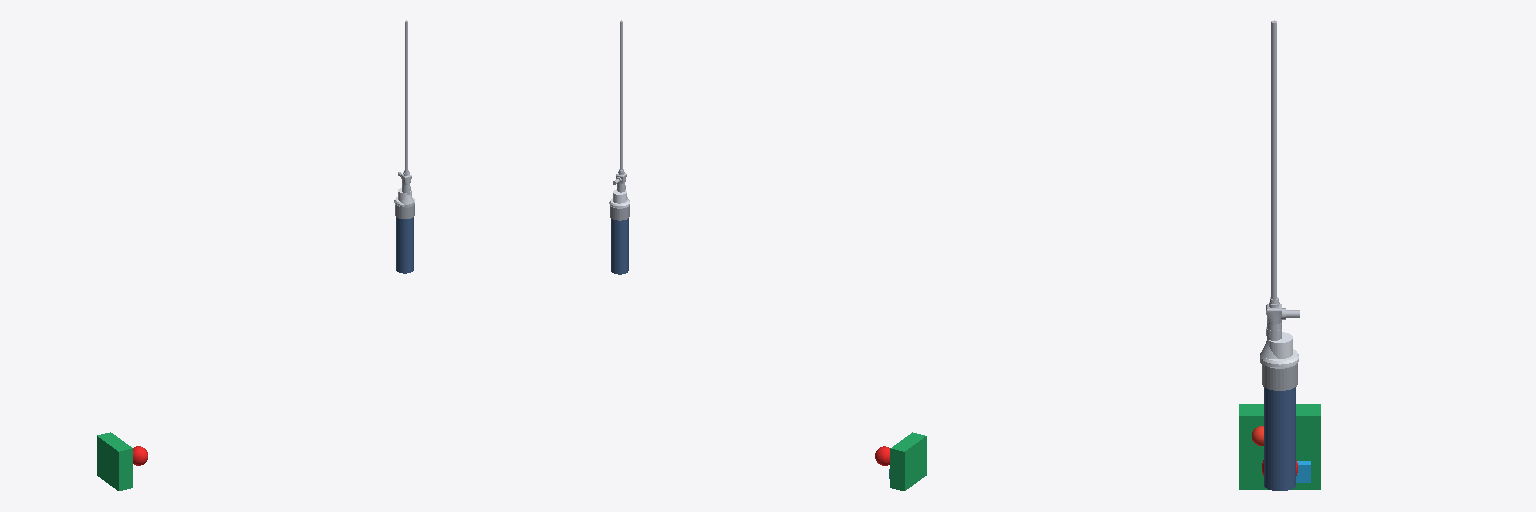
The robot description file, URDF, robot "RM65-B":
<?xml version="1.0" encoding="utf-8"?>
<!-- This URDF was automatically created by SolidWorks to URDF Exporter! Originally created by Stephen Brawner (brawner@gmail.com) 
     Commit Version: 1.6.0-1-g15f4949  Build Version: 1.6.7594.29634
     For more information, please see http://wiki.ros.org/sw_urdf_exporter -->
<robot
  name="RM65-B">
  <link
    name="base_link">
    <inertial>
      <origin
        xyz="-0.00049987 -5.2709E-05 0.060019"
        rpy="0 0 0" />
      <mass
        value="1.862" />
      <inertia
        ixx="0.0017232"
        ixy="-3.1058E-06"
        ixz="3.7924E-05"
        iyy="0.0017051"
        iyz="-1.3691E-06"
        izz="0.00090158" />
    </inertial>
    <visual>
      <origin
        xyz="0 0 0"
        rpy="0 0 0" />
      <geometry>
        <mesh
          filename="package://RM65-B/meshes/base_link.STL" />
      </geometry>
      <material
        name="arm_base">
        <color
          rgba="0.3 0.42 0.58 1" />
      </material>
    </visual>
    <collision>
      <origin
        xyz="0 0 0"
        rpy="0 0 0" />
      <geometry>
        <mesh
          filename="package://RM65-B/meshes/base_link.STL" />
      </geometry>
    </collision>
  </link>
  <link
    name="link_1">
    <inertial>
      <origin
        xyz="0.000941 0.007803 -0.10744"
        rpy="0 0 0" />
      <mass
        value="1.51" />
      <inertia
        ixx="0.002662223"
        ixy="-0.000026849"
        ixz="-0.000013775"
        iyy="0.002331685"
        iyz="-0.000078667"
        izz="0.001663712" />
    </inertial>
    <visual>
      <origin
        xyz="0 0 0"
        rpy="0 0 0" />
      <geometry>
        <mesh
          filename="package://RM65-B/meshes/link_1.STL" />
      </geometry>
      <material
        name="arm_link_1">
        <color
          rgba="0.42 0.56 0.72 1" />
      </material>
    </visual>
    <collision>
      <origin
        xyz="0 0 0"
        rpy="0 0 0" />
      <geometry>
        <mesh
          filename="package://RM65-B/meshes/link_1.STL" />
      </geometry>
    </collision>
  </link>
  <joint
    name="joint_1"
    type="revolute">
    <origin
      xyz="0 0 0.2405"
      rpy="0 0 0" />
    <parent
      link="base_link" />
    <child
      link="link_1" />
    <axis
      xyz="0 0 1" />
    <limit
      lower="-3.106"
      upper="3.106"
      effort="60"
      velocity="3.14" />
  </joint>
  <link
    name="link_2">
    <inertial>
      <origin
        xyz="0.183722 0.000103 -0.001665"
        rpy="0 0 0" />
      <mass
        value="1.653" />
      <inertia
        ixx="0.001706953"
        ixy="-0.000006995"
        ixz="0.001809254"
        iyy="0.014713776"
        iyz="0.000006223"
        izz="0.014239805" />
    </inertial>
    <visual>
      <origin
        xyz="0 0 0"
        rpy="0 0 0" />
      <geometry>
        <mesh
          filename="package://RM65-B/meshes/link_2.STL" />
      </geometry>
      <material
        name="arm_link_2">
        <color
          rgba="0.38 0.5 0.68 1" />
      </material>
    </visual>
    <collision>
      <origin
        xyz="0 0 0"
        rpy="0 0 0" />
      <geometry>
        <mesh
          filename="package://RM65-B/meshes/link_2.STL" />
      </geometry>
    </collision>
  </link>
  <joint
    name="joint_2"
    type="revolute">
    <origin
      xyz="0 0 0"
      rpy="1.5708 -1.5708 0" />
    <parent
      link="link_1" />
    <child
      link="link_2" />
    <axis
      xyz="0 0 1" />
    <limit
      lower="-2.2689"
      upper="2.2689"
      effort="60"
      velocity="3.14" />
  </joint>
  <link
    name="link_3">
    <inertial>
      <origin
        xyz="0.000029 -0.090105 0.004039"
        rpy="0 0 0" />
      <mass
        value="0.726" />
      <inertia
        ixx="0.001350874"
        ixy="0.000001069"
        ixz="-0.000000228"
        iyy="0.000360021"
        iyz="-0.000219904"
        izz="0.001331598" />
    </inertial>
    <visual>
      <origin
        xyz="0 0 0"
        rpy="0 0 0" />
      <geometry>
        <mesh
          filename="package://RM65-B/meshes/link_3.STL" />
      </geometry>
      <material
        name="arm_link_3">
        <color
          rgba="0.45 0.6 0.78 1" />
      </material>
    </visual>
    <collision>
      <origin
        xyz="0 0 0"
        rpy="0 0 0" />
      <geometry>
        <mesh
          filename="package://RM65-B/meshes/link_3.STL" />
      </geometry>
    </collision>
  </link>
  <joint
    name="joint_3"
    type="revolute">
    <origin
      xyz="0.256 0 0"
      rpy="0 0 1.5708" />
    <parent
      link="link_2" />
    <child
      link="link_3" />
    <axis
      xyz="0 0 1" />
    <limit
      lower="-2.356"
      upper="2.356"
      effort="30"
      velocity="3.14" />
  </joint>
  <link
    name="link_4">
    <inertial>
      <origin
        xyz="0.000007 -0.009486 -0.008041"
        rpy="0 0 0" />
      <mass
        value="0.671" />
      <inertia
        ixx="0.000690221"
        ixy="-0.000000865"
        ixz="-0.000000692"
        iyy="0.000552834"
        iyz="0.000016411"
        izz="0.000425835" />
    </inertial>
    <visual>
      <origin
        xyz="0 0 0"
        rpy="0 0 0" />
      <geometry>
        <mesh
          filename="package://RM65-B/meshes/link_4.STL" />
      </geometry>
      <material
        name="arm_link_4">
        <color
          rgba="0.36 0.48 0.64 1" />
      </material>
    </visual>
    <collision>
      <origin
        xyz="0 0 0"
        rpy="0 0 0" />
      <geometry>
        <mesh
          filename="package://RM65-B/meshes/link_4.STL" />
      </geometry>
    </collision>
  </link>
  <joint
    name="joint_4"
    type="revolute">
    <origin
      xyz="0 -0.21 0"
      rpy="1.5708 0 0" />
    <parent
      link="link_3" />
    <child
      link="link_4" />
    <axis
      xyz="0 0 1" />
    <limit
      lower="-3.106"
      upper="3.106"
      effort="10"
      velocity="3.14" />
  </joint>
  <link
    name="link_5">
    <inertial>
      <origin
        xyz="0.000032 -0.083769 0.002326"
        rpy="0 0 0" />
      <mass
        value="0.647" />
      <inertia
        ixx="0.000834052"
        ixy="0.000000952"
        ixz="-0.000000257"
        iyy="0.000281767"
        iyz="-0.000111750"
        izz="0.000821714" />
    </inertial>
    <visual>
      <origin
        xyz="0 0 0"
        rpy="0 0 0" />
      <geometry>
        <mesh
          filename="package://RM65-B/meshes/link_5.STL" />
      </geometry>
      <material
        name="arm_link_5">
        <color
          rgba="0.4 0.54 0.7 1" />
      </material>
    </visual>
    <collision>
      <origin
        xyz="0 0 0"
        rpy="0 0 0" />
      <geometry>
        <mesh
          filename="package://RM65-B/meshes/link_5.STL" />
      </geometry>
    </collision>
  </link>
  <joint
    name="joint_5"
    type="revolute">
    <origin
      xyz="0 0 0"
      rpy="-1.5708 0 0" />
    <parent
      link="link_4" />
    <child
      link="link_5" />
    <axis
      xyz="0 0 1" />
    <limit
      lower="-2.234"
      upper="2.234"
      effort="10"
      velocity="3.14" />
  </joint>
  <link
    name="link_6">
    <inertial>
      <origin
        xyz="-0.000569 0.00029 -0.010569"
        rpy="0 0 0" />
      <mass
        value="0.104" />
      <inertia
        ixx="3.043E-05"
        ixy="2.622E-09"
        ixz="2.199E-08"
        iyy="3.604E-05"
        iyz="1.195E-08"
        izz="5.52E-05" />
    </inertial>
    <visual>
      <origin
        xyz="0 0 0"
        rpy="0 0 0" />
      <geometry>
        <mesh
          filename="package://RM65-B/meshes/link_6.STL" />
      </geometry>
      <material
        name="arm_link_6">
        <color
          rgba="0.32 0.44 0.6 1" />
      </material>
    </visual>
    <visual>
      <origin
        xyz="0 0 -0.055"
        rpy="0 0 0" />
      <geometry>
        <cylinder
          radius="0.016"
          length="0.11" />
      </geometry>
      <material
        name="arm_link_6_bridge">
        <color
          rgba="0.32 0.44 0.6 1" />
      </material>
    </visual>
    <collision>
      <origin
        xyz="0 0 0"
        rpy="0 0 0" />
      <geometry>
        <mesh
          filename="package://RM65-B/meshes/link_6.STL" />
      </geometry>
    </collision>
    <collision>
      <origin
        xyz="0 0 -0.055"
        rpy="0 0 0" />
      <geometry>
        <cylinder
          radius="0.016"
          length="0.11" />
      </geometry>
    </collision>
  </link>
  <joint
    name="joint_6"
    type="revolute">
    <origin
      xyz="0 -0.144 0"
      rpy="1.5708 0 0" />
    <parent
      link="link_5" />
    <child
      link="link_6" />
    <axis
      xyz="0 0 1" />
    <limit
      lower="-6.28"
      upper="6.28"
      effort="10"
      velocity="3.14" />
  </joint>
  <link
    name="endoscope_tool">
    <inertial>
      <origin
        xyz="0 0 0.18"
        rpy="0 0 0" />
      <mass
        value="0.22" />
      <inertia
        ixx="0.0015"
        ixy="0"
        ixz="0"
        iyy="0.0015"
        iyz="0"
        izz="0.0002" />
    </inertial>
    <visual>
      <origin
        xyz="0 0 0.012"
        rpy="0 0 0" />
      <geometry>
        <cylinder
          radius="0.018"
          length="0.024" />
      </geometry>
      <material
        name="tool_adapter">
        <color
          rgba="0.68 0.7 0.74 1" />
      </material>
    </visual>
    <visual>
      <origin
        xyz="-0.017076289 -0.019918535 0.024"
        rpy="0 0 0" />
      <geometry>
        <mesh
          filename="en.STL"
          scale="0.001 0.001 0.001" />
      </geometry>
      <material
        name="endoscope_body">
        <color
          rgba="0.78 0.8 0.84 1" />
      </material>
    </visual>
    <visual>
      <origin
        xyz="-0.018953737 -0.018953737 0.024"
        rpy="0 0 0" />
      <geometry>
        <mesh
          filename="camera.STL"
          scale="0.001 0.001 0.001" />
      </geometry>
      <material
        name="camera_body">
        <color
          rgba="0.92 0.94 0.98 1" />
      </material>
    </visual>
    <collision>
      <origin
        xyz="0 0 0.012"
        rpy="0 0 0" />
      <geometry>
        <cylinder
          radius="0.018"
          length="0.024" />
      </geometry>
    </collision>
    <collision>
      <origin
        xyz="-0.017076289 -0.019918535 0.024"
        rpy="0 0 0" />
      <geometry>
        <mesh
          filename="en.STL"
          scale="0.001 0.001 0.001" />
      </geometry>
    </collision>
    <collision>
      <origin
        xyz="-0.018953737 -0.018953737 0.024"
        rpy="0 0 0" />
      <geometry>
        <mesh
          filename="camera.STL"
          scale="0.001 0.001 0.001" />
      </geometry>
    </collision>
  </link>
  <joint
    name="tool_mount_joint"
    type="fixed">
    <origin
      xyz="0 0 0"
      rpy="0 0 0" />
    <parent
      link="link_6" />
    <child
      link="endoscope_tool" />
  </joint>
  <link
    name="inspection_target">
    <inertial>
      <origin
        xyz="0 0 0"
        rpy="0 0 0" />
      <mass
        value="0.2" />
      <inertia
        ixx="0.0003"
        ixy="0"
        ixz="0"
        iyy="0.0003"
        iyz="0"
        izz="0.0003" />
    </inertial>
    <visual>
      <origin
        xyz="0 0 0"
        rpy="0 0 0" />
      <geometry>
        <box
          size="0.03 0.08 0.08" />
      </geometry>
      <material
        name="target_body">
        <color
          rgba="0.18 0.72 0.44 1" />
      </material>
    </visual>
    <visual>
      <origin
        xyz="0.021 0 0"
        rpy="0 1.5708 0" />
      <geometry>
        <cylinder
          radius="0.012"
          length="0.018" />
      </geometry>
      <material
        name="target_feature_cyl">
        <color
          rgba="0.92 0.96 0.28 1" />
      </material>
    </visual>
    <visual>
      <origin
        xyz="0.018 -0.018 0.02"
        rpy="0 0 0" />
      <geometry>
        <sphere
          radius="0.01" />
      </geometry>
      <material
        name="target_feature_sphere">
        <color
          rgba="0.94 0.3 0.22 1" />
      </material>
    </visual>
    <visual>
      <origin
        xyz="0.018 0.02 -0.018"
        rpy="0 0 0" />
      <geometry>
        <box
          size="0.012 0.02 0.02" />
      </geometry>
      <material
        name="target_feature_box">
        <color
          rgba="0.22 0.72 0.96 1" />
      </material>
    </visual>
    <visual>
      <origin
        xyz="0.05 0 0"
        rpy="0 0 0" />
      <geometry>
        <sphere
          radius="0.018" />
      </geometry>
      <material
        name="target_front_sphere">
        <color
          rgba="0.96 0.2 0.2 1" />
      </material>
    </visual>
    <collision>
      <origin
        xyz="0 0 0"
        rpy="0 0 0" />
      <geometry>
        <box
          size="0.03 0.08 0.08" />
      </geometry>
    </collision>
    <collision>
      <origin
        xyz="0.05 0 0"
        rpy="0 0 0" />
      <geometry>
        <sphere
          radius="0.018" />
      </geometry>
    </collision>
  </link>
  <joint
    name="inspection_target_joint"
    type="fixed">
    <origin
      xyz="-0.61 0 0.497"
      rpy="0 0 0" />
    <parent
      link="base_link" />
    <child
      link="inspection_target" />
  </joint>
</robot>

--- Facts derived from the render (not from the file) ---
3 views of the same robot in one strip: view 1: azimuth 30°, elevation 25°; view 2: azimuth 150°, elevation 25°; view 3: azimuth 270°, elevation 25° (orthographic).
Model RM65-B with 9 links and 8 joints (6 revolute, 2 fixed), rooted at base_link, posed every joint at zero.
Links seen in each view (by area): view 1: inspection_target, endoscope_tool, link_6; view 2: inspection_target, endoscope_tool, link_6; view 3: inspection_target, endoscope_tool, link_6.
Boxes of the visible links, bbox=[...] form: inspection_target: bbox=[97, 432, 147, 490]; endoscope_tool: bbox=[394, 20, 414, 218]; link_6: bbox=[396, 217, 413, 273]; inspection_target: bbox=[875, 432, 926, 490]; endoscope_tool: bbox=[609, 20, 629, 220]; link_6: bbox=[611, 218, 628, 274]; inspection_target: bbox=[1239, 404, 1320, 489]; endoscope_tool: bbox=[1260, 20, 1299, 390]; link_6: bbox=[1264, 387, 1295, 490].
Size in the robot's own frame: 0.6439 by 0.08 by 0.7856 metres.
Meshes: 9 distinct files referenced, 2 mesh visuals loaded (2 binary STL); not drawn: 7 (reference not matched to a file when rendering).
